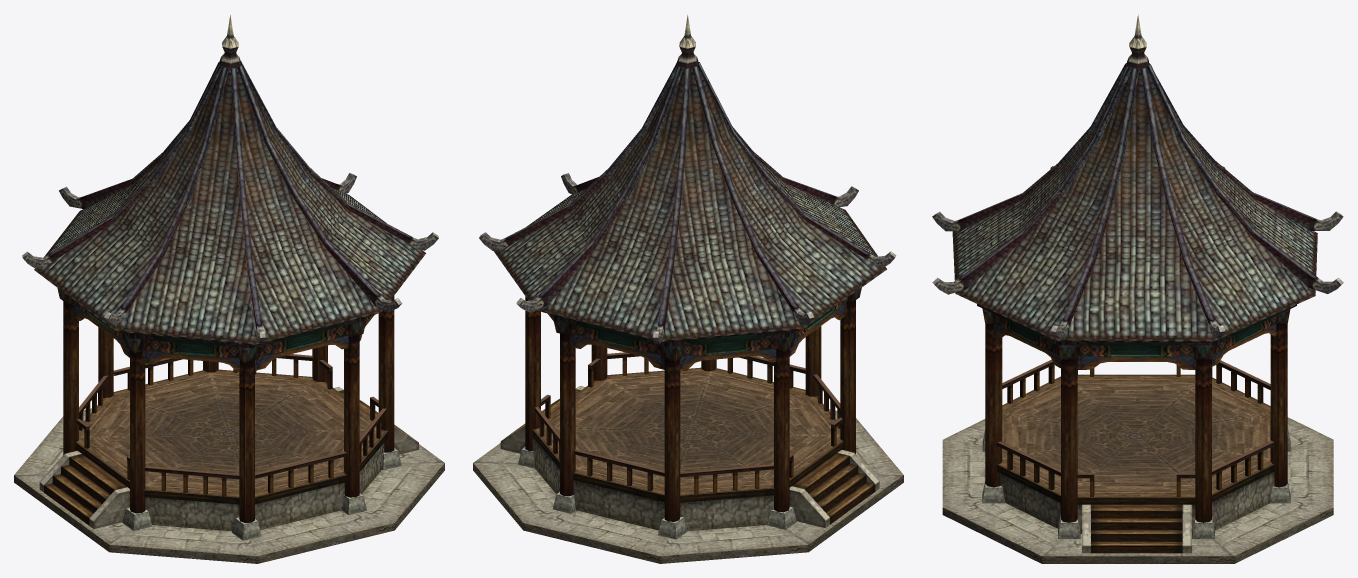
The model's file is nsm-001-house3.fbx.
The picture shows the model from 3 angles, left to right: view 1: azimuth 30°, elevation 25°; view 2: azimuth 150°, elevation 25°; view 3: azimuth 270°, elevation 25°; orthographic projection.
Visible parts, largest first — view 1: b1-001-house3; view 2: b1-001-house3; view 3: b1-001-house3.
Part boxes in pixels (bbox=[...]): b1-001-house3: bbox=[14, 15, 444, 563]; b1-001-house3: bbox=[473, 15, 903, 563]; b1-001-house3: bbox=[932, 14, 1343, 563].
Bounding box in the file's own units: 8.17 × 10.74 × 8.58.
